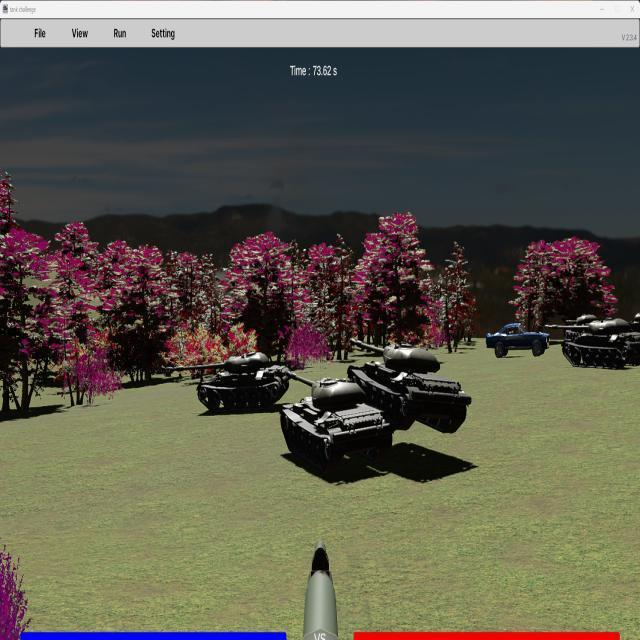Tank: (347, 338, 472, 434), (280, 370, 393, 472), (164, 351, 291, 414), (545, 318, 640, 369)
car: (486, 322, 549, 357)
